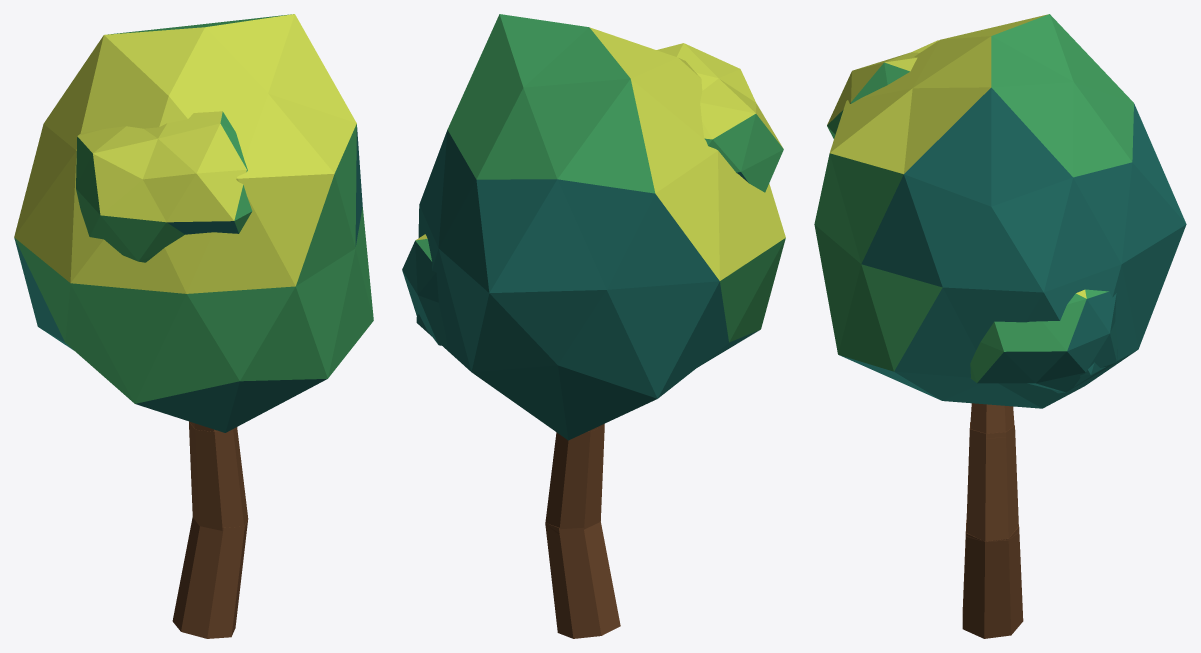
The model's file is Agac_Yumurta.fbx.
3 views of the same model, side by side, from view 1: azimuth 30°, elevation 25°; view 2: azimuth 150°, elevation 25°; view 3: azimuth 270°, elevation 25° (orthographic). The views are drawn at different scales.
Parts seen in each view (by area): view 1: Agac_Yumurta; view 2: Agac_Yumurta; view 3: Agac_Yumurta.
Part boxes in pixels (x1,y1,x2,y2): Agac_Yumurta: (14,14,373,638); Agac_Yumurta: (402,14,785,638); Agac_Yumurta: (814,14,1186,638).
Size of the model in its own units: 200 by 367 by 210.
